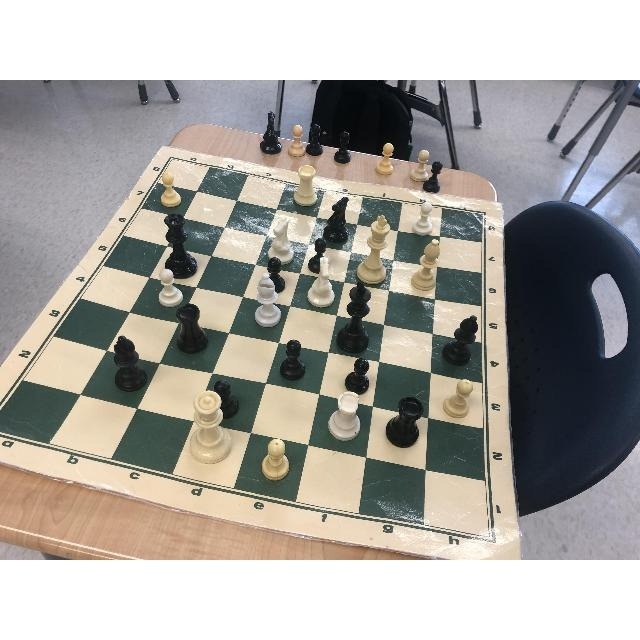black-bishop: (113, 335, 147, 393), (442, 316, 478, 366)
black-king: (336, 282, 374, 354)
black-knight: (325, 196, 349, 244)
black-pawn: (276, 338, 305, 379), (212, 379, 238, 419), (344, 359, 370, 395), (264, 255, 285, 294), (308, 238, 329, 274)
black-queen: (164, 213, 197, 280)
black-rook: (384, 397, 419, 447), (176, 304, 209, 353)
white-bishop: (253, 274, 283, 330), (409, 239, 440, 291)
white-king: (354, 216, 391, 284)
white-knight: (305, 258, 335, 308), (268, 220, 295, 264)
white-pawn: (260, 438, 289, 480), (444, 379, 472, 417), (158, 268, 183, 309), (411, 200, 435, 234), (161, 172, 183, 208)
white-queen: (190, 389, 232, 464)
white-rook: (329, 392, 361, 440), (293, 164, 316, 207)
